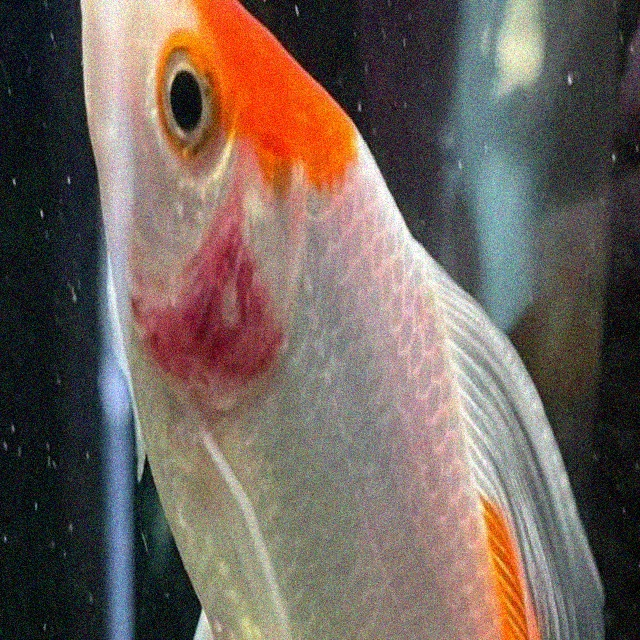Gill Disease: (78, 8, 424, 484)
